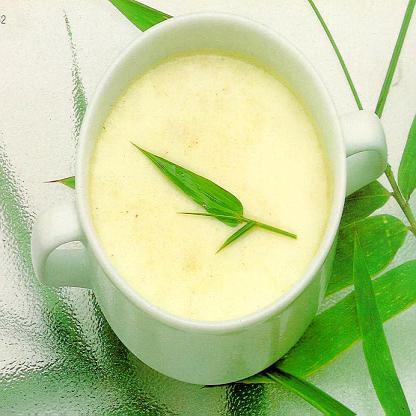Kaithoon: (81, 40, 335, 344)
